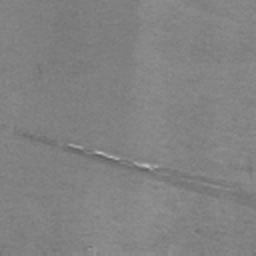Finishing roll printing: (15, 130, 256, 209)
